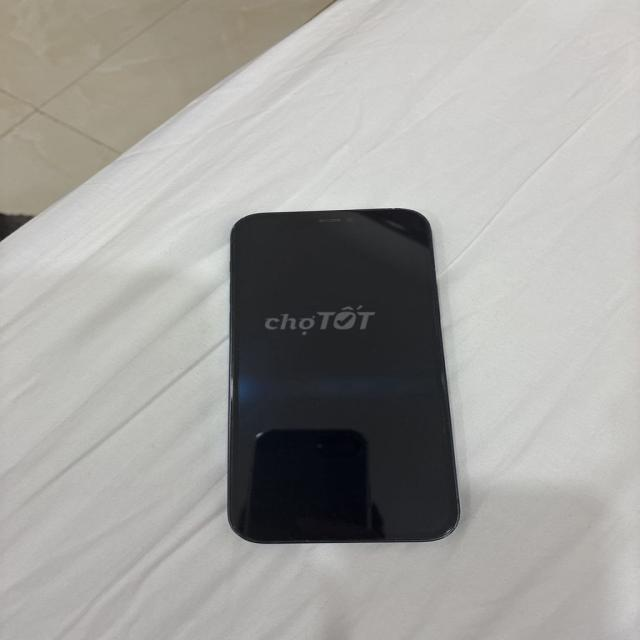gen_12_13: (220, 206, 467, 550)
